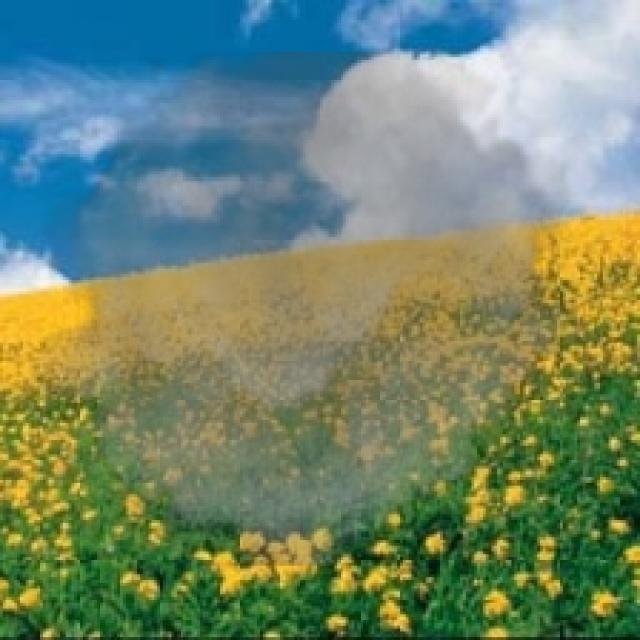Smoke: (29, 51, 592, 566)
